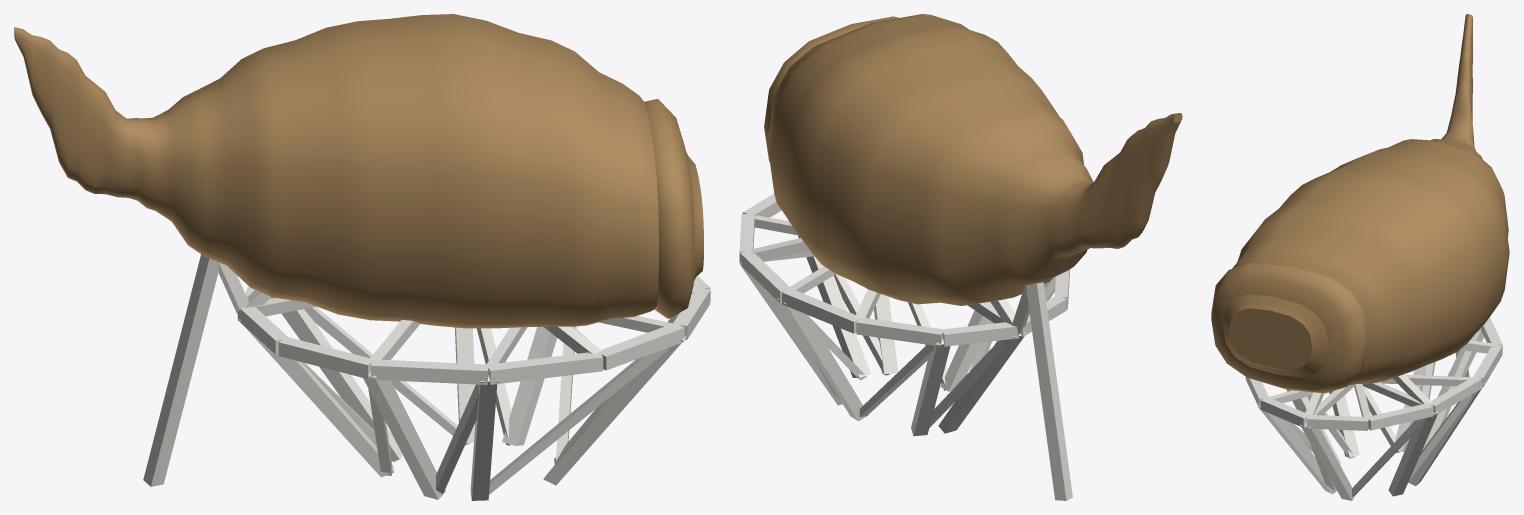
File: barcelona-peix-d-or.glb
The picture shows the model from 3 angles, left to right: view 1: azimuth 30°, elevation 25°; view 2: azimuth 150°, elevation 25°; view 3: azimuth 270°, elevation 25°; orthographic projection. The views are drawn at different scales.
Parts seen in each view (by area): view 1: El Peix d'Or; view 2: El Peix d'Or; view 3: El Peix d'Or.
Part boxes in pixels (left/top/right/bottom): El Peix d'Or: left=14, top=14, right=710, bottom=500; El Peix d'Or: left=739, top=14, right=1182, bottom=500; El Peix d'Or: left=1211, top=14, right=1509, bottom=500.
Bounding box in the file's own units: 44.1 × 35 × 28.54.
